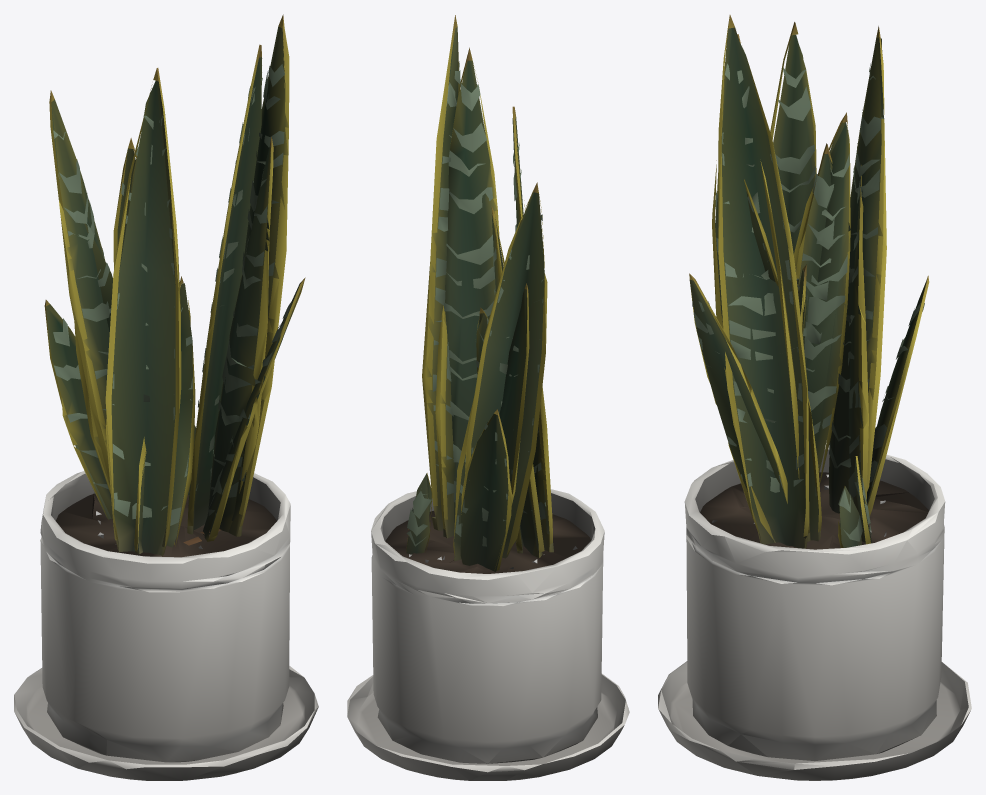
The model's file is striped-snake.glb.
The picture shows the model from 3 angles, left to right: view 1: azimuth 30°, elevation 25°; view 2: azimuth 150°, elevation 25°; view 3: azimuth 270°, elevation 25°; orthographic projection. The views are drawn at different scales.
Parts seen in each view (by area): view 1: solid, leaf; view 2: solid, leaf; view 3: solid, leaf.
Part boxes in pixels (x1,y1,x2,y2): solid: (14, 14, 318, 780); leaf: (46, 26, 302, 556); solid: (347, 15, 629, 780); leaf: (406, 27, 553, 571); solid: (658, 15, 971, 780); leaf: (689, 27, 926, 548).
Bounding box in the file's own units: 0.3064 × 0.8025 × 0.3064.
